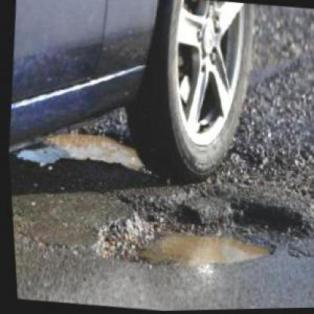Hueco: (86, 182, 310, 287)
